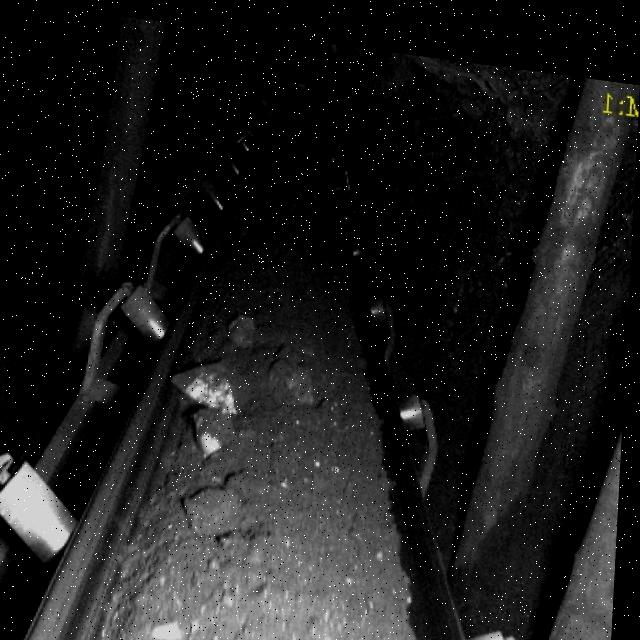large_sized_coal: (176, 345, 240, 403), (190, 475, 245, 530), (272, 341, 322, 396), (195, 396, 240, 450), (231, 301, 261, 345)
